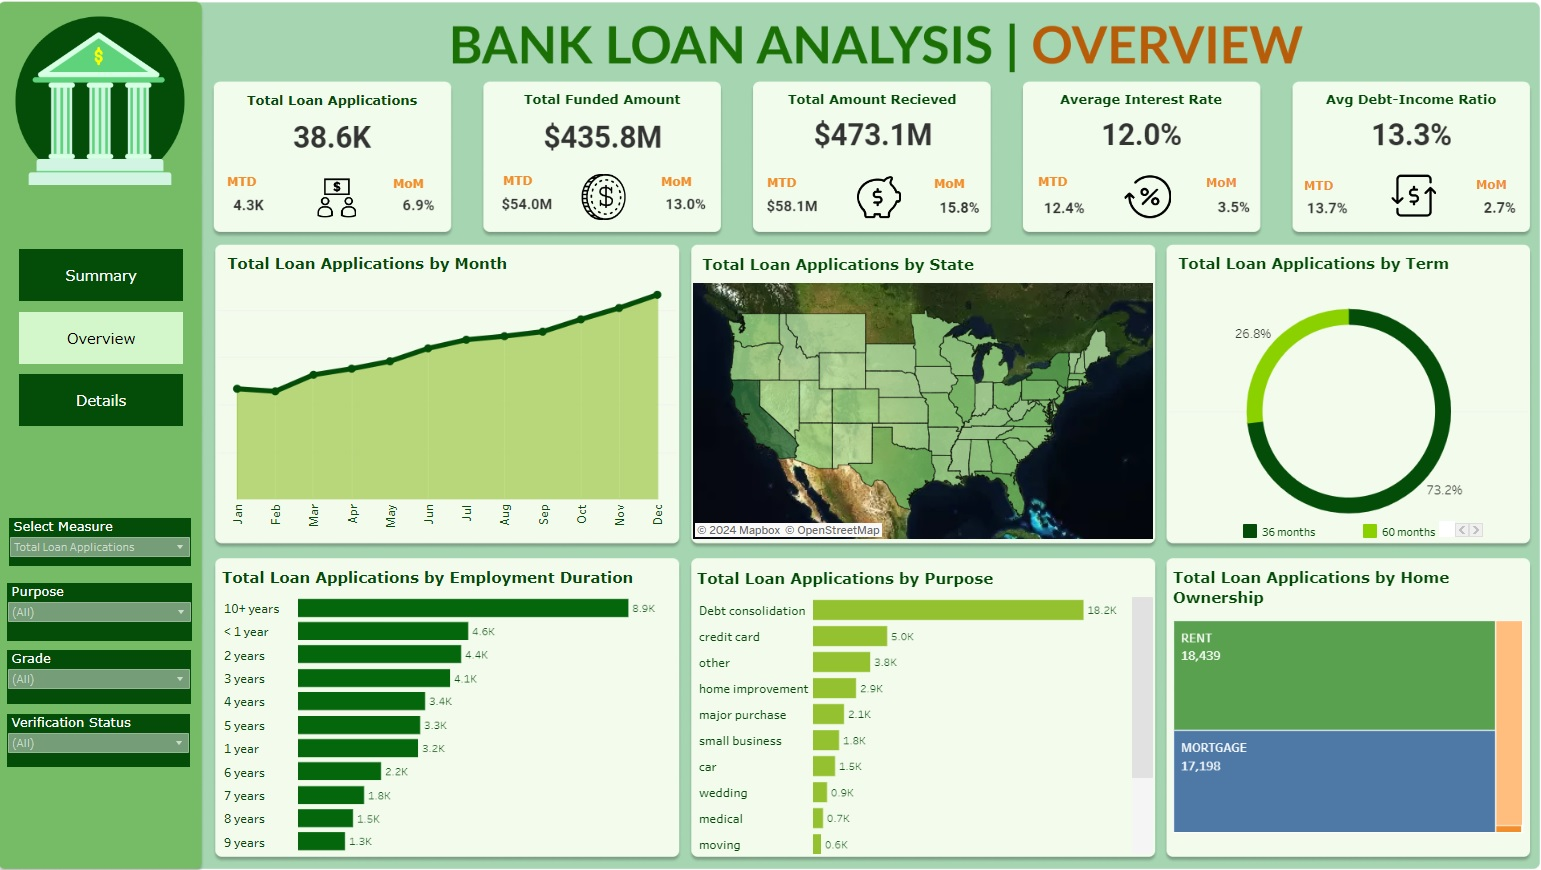

The dashboard page shown, as its layout file describes it:
{"tool":"tableau","page":{"name":"Overview","canvas":[1600,900],"ordinal":1},"visuals":[{"type":"image","param":"Image/Page 2.png","box":[8,8,1584,884]},{"type":"image","param":"Image/bank-svgrepo-com.svg","box":[47,28,172,169]},{"type":"worksheet","title":"Total Funded Amount","mark":"Automatic","box":[519,96,232,75]},{"type":"worksheet","title":"Total Amount Recieved","mark":"Automatic","box":[788,96,234,71]},{"type":"worksheet","title":"Average Interest Rate","mark":"Automatic","box":[1058,96,232,70]},{"type":"worksheet","title":"Avg Debt-Income Ratio","mark":"Automatic","box":[1328,96,232,71]},{"type":"worksheet","title":"Total Loan Applications","mark":"Automatic","box":[249,97,232,74]},{"type":"text","box":[536,178,45,30]},{"type":"text","box":[260,179,45,30]},{"type":"text","box":[694,179,45,30]},{"type":"text","box":[1071,179,45,30]},{"type":"text","box":[800,180,45,30]},{"type":"text","box":[1239,180,45,30]},{"type":"text","box":[426,181,45,30]},{"type":"text","box":[967,181,45,30]},{"type":"text","box":[1509,182,45,30]},{"type":"text","box":[1337,183,45,30]},{"type":"image","param":"Image/Picture6.png","box":[1424,184,45,47]},{"type":"image","param":"Image/Picture5.png","box":[1157,185,47,47]},{"type":"image","param":"Image/Picture3.png","box":[614,186,45,46]},{"type":"image","param":"Image/Picture4.png","box":[890,186,44,46]},{"type":"image","param":"Image/Picture1.png","box":[350,190,39,40]},{"type":"worksheet","title":"MTD Total Loan Applications","mark":"Automatic","box":[244,194,76,46]},{"type":"worksheet","title":"MoM Loan Applications","mark":"Automatic","box":[416,194,72,46]},{"type":"worksheet","title":"MTD Total Funded Amount","mark":"Automatic","box":[524,198,73,36]},{"type":"worksheet","title":"MoM Total Funded Amount","mark":"Automatic","box":[688,198,62,36]},{"type":"worksheet","title":"MTD Total Amount Recieved","mark":"Automatic","box":[788,200,75,36]},{"type":"worksheet","title":"MTD Avg Interest Rate","mark":"Automatic","box":[1068,200,59,39]},{"type":"worksheet","title":"MoM Avg Interest Rate","mark":"Automatic","box":[1236,201,62,36]},{"type":"worksheet","title":"MTD Avg DTI","mark":"Automatic","box":[1327,201,67,38]},{"type":"worksheet","title":"MoM Total Amount Recieved","mark":"Automatic","box":[959,203,68,33]},{"type":"worksheet","title":"MoM Avg DTI","mark":"Automatic","box":[1500,203,66,33]},{"type":"worksheet","title":"Month","mark":"Area","rows":["Calculation_987132801868750880","Calculation_987132801868750880"],"cols":["issue_date"],"box":[251,259,458,292]},{"type":"worksheet","title":"Term","mark":"Pie","rows":["Calculation_987132801874812962","Calculation_987132801874845732"],"box":[1202,259,359,293]},{"type":"worksheet","title":"State","mark":"Multipolygon","box":[726,260,460,291]},{"type":"dashboard-object","box":[52,261,164,52]},{"type":"dashboard-object","box":[52,324,164,52]},{"type":"dashboard-object","box":[52,386,164,52]},{"type":"parameter","param":"[Parameters].[Parameter 1]","box":[42,530,182,48]},{"type":"legend","title":"Term","param":"[federated.0sfkk7x1b2yyio0zo84341g16opc].[none:term:nk]","box":[1273,533,245,21]},{"type":"worksheet","title":"Employment Duration","mark":"Automatic","rows":["emp_length"],"cols":["Calculation_987132801868750880"],"box":[251,573,458,292]},{"type":"worksheet","title":"Home Ownsership","mark":"Automatic","box":[1202,573,357,293]},{"type":"worksheet","title":"Purpose","mark":"Automatic","rows":["purpose"],"cols":["Calculation_987132801868750880"],"box":[726,574,460,292]},{"type":"filter","title":"Avg Debt-Income Ratio","param":"[federated.0sfkk7x1b2yyio0zo84341g16opc].[none:purpose:nk]","box":[40,595,185,58]},{"type":"filter","title":"Avg Debt-Income Ratio","param":"[federated.0sfkk7x1b2yyio0zo84341g16opc].[none:grade:nk]","box":[40,662,184,54]},{"type":"filter","title":"Avg Debt-Income Ratio","param":"[federated.0sfkk7x1b2yyio0zo84341g16opc].[none:verification_status:nk]","box":[40,726,183,53]}]}

Visuals, with their boxes in screenshot pixels (x1, y1, x2, y2), scaled from the page's 1600x900 canvas onto the 1541x870 screenshot:
image: region(8, 8, 1533, 862)
image: region(45, 27, 211, 190)
"Total Funded Amount" worksheet: region(500, 93, 723, 165)
"Total Amount Recieved" worksheet: region(759, 93, 984, 161)
"Average Interest Rate" worksheet: region(1019, 93, 1242, 160)
"Avg Debt-Income Ratio" worksheet: region(1279, 93, 1502, 161)
"Total Loan Applications" worksheet: region(240, 94, 463, 165)
text: region(516, 172, 560, 201)
text: region(250, 173, 294, 202)
text: region(668, 173, 712, 202)
text: region(1032, 173, 1075, 202)
text: region(770, 174, 814, 203)
text: region(1193, 174, 1237, 203)
text: region(410, 175, 454, 204)
text: region(931, 175, 975, 204)
text: region(1453, 176, 1497, 205)
text: region(1288, 177, 1331, 206)
image: region(1371, 178, 1415, 223)
image: region(1114, 179, 1160, 224)
image: region(591, 180, 635, 224)
image: region(857, 180, 900, 224)
image: region(337, 184, 375, 222)
"MTD Total Loan Applications" worksheet: region(235, 188, 308, 232)
"MoM Loan Applications" worksheet: region(401, 188, 470, 232)
"MTD Total Funded Amount" worksheet: region(505, 191, 575, 226)
"MoM Total Funded Amount" worksheet: region(663, 191, 722, 226)
"MTD Total Amount Recieved" worksheet: region(759, 193, 831, 228)
"MTD Avg Interest Rate" worksheet: region(1029, 193, 1085, 231)
"MoM Avg Interest Rate" worksheet: region(1190, 194, 1250, 229)
"MTD Avg DTI" worksheet: region(1278, 194, 1343, 231)
"MoM Total Amount Recieved" worksheet: region(924, 196, 989, 228)
"MoM Avg DTI" worksheet: region(1445, 196, 1508, 228)
"Month" worksheet (Area marks): region(242, 250, 683, 533)
"Term" worksheet (Pie marks): region(1158, 250, 1503, 534)
"State" worksheet (Multipolygon marks): region(699, 251, 1142, 533)
dashboard-object: region(50, 252, 208, 303)
dashboard-object: region(50, 313, 208, 363)
dashboard-object: region(50, 373, 208, 423)
parameter: region(40, 512, 216, 559)
"Term" legend: region(1226, 515, 1462, 536)
"Employment Duration" worksheet: region(242, 554, 683, 836)
"Home Ownsership" worksheet: region(1158, 554, 1502, 837)
"Purpose" worksheet: region(699, 555, 1142, 837)
"Avg Debt-Income Ratio" filter: region(39, 575, 217, 631)
"Avg Debt-Income Ratio" filter: region(39, 640, 216, 692)
"Avg Debt-Income Ratio" filter: region(39, 702, 215, 753)
